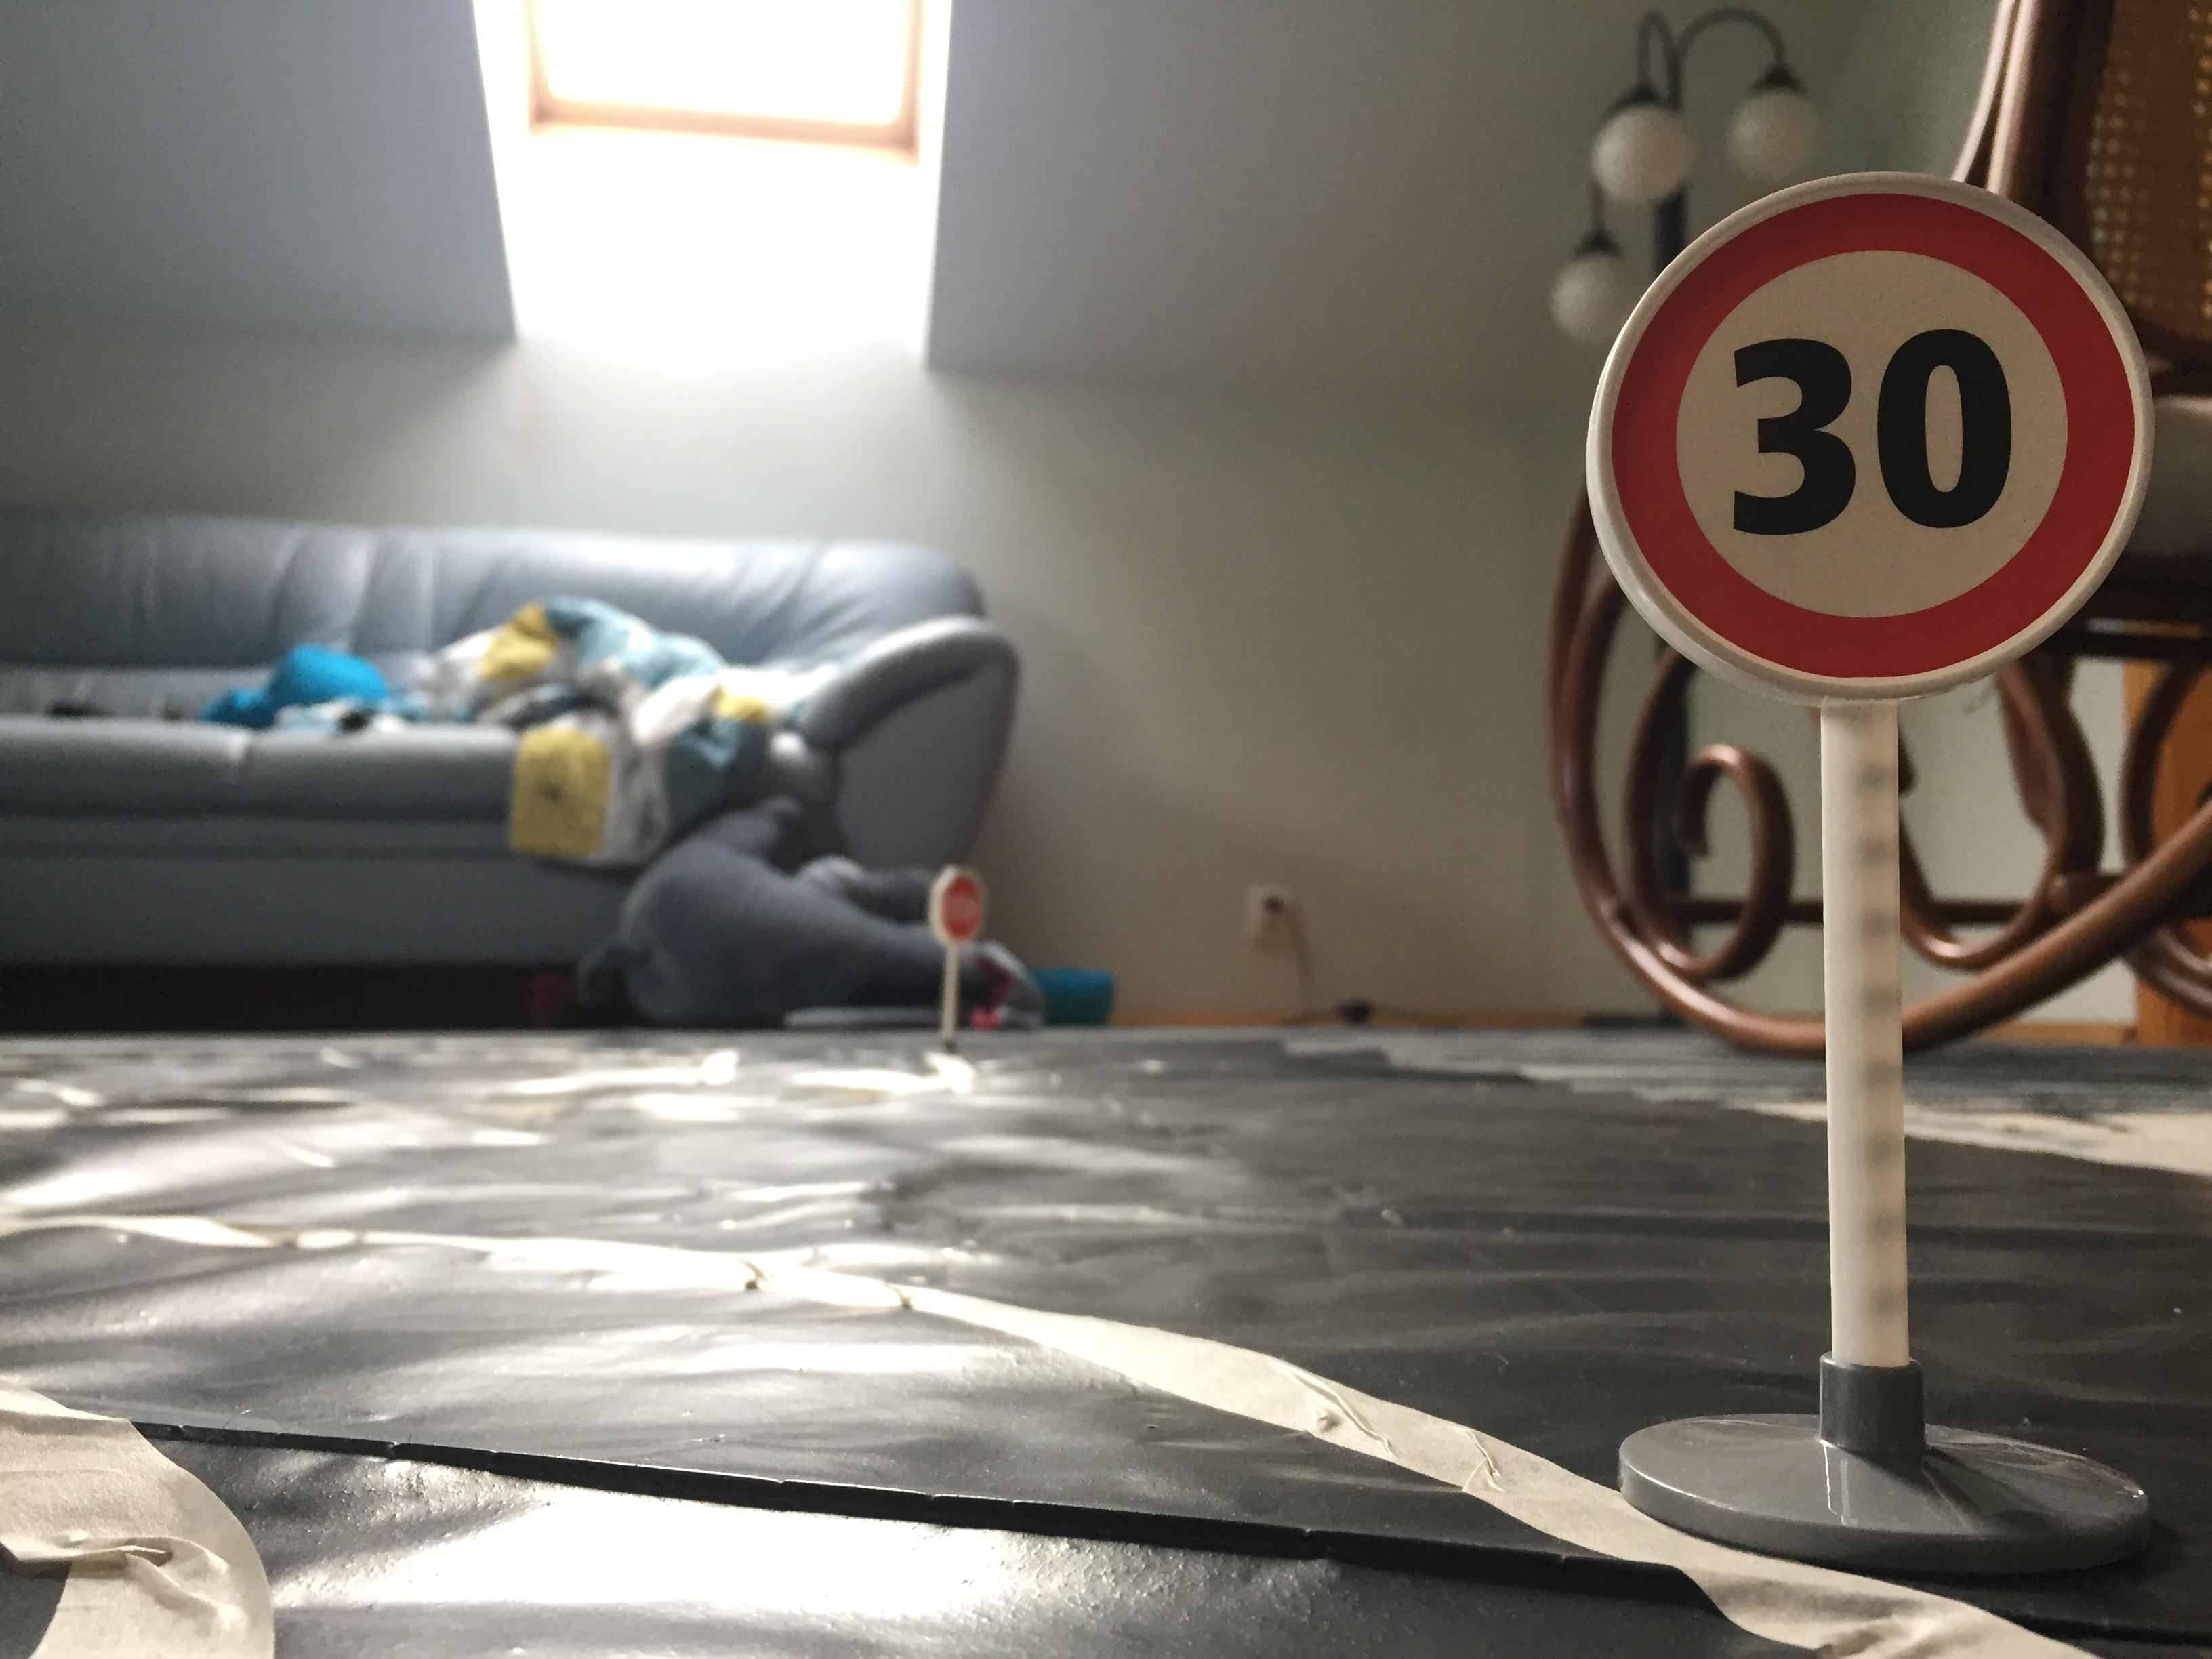speed: (1568, 150, 2175, 718)
